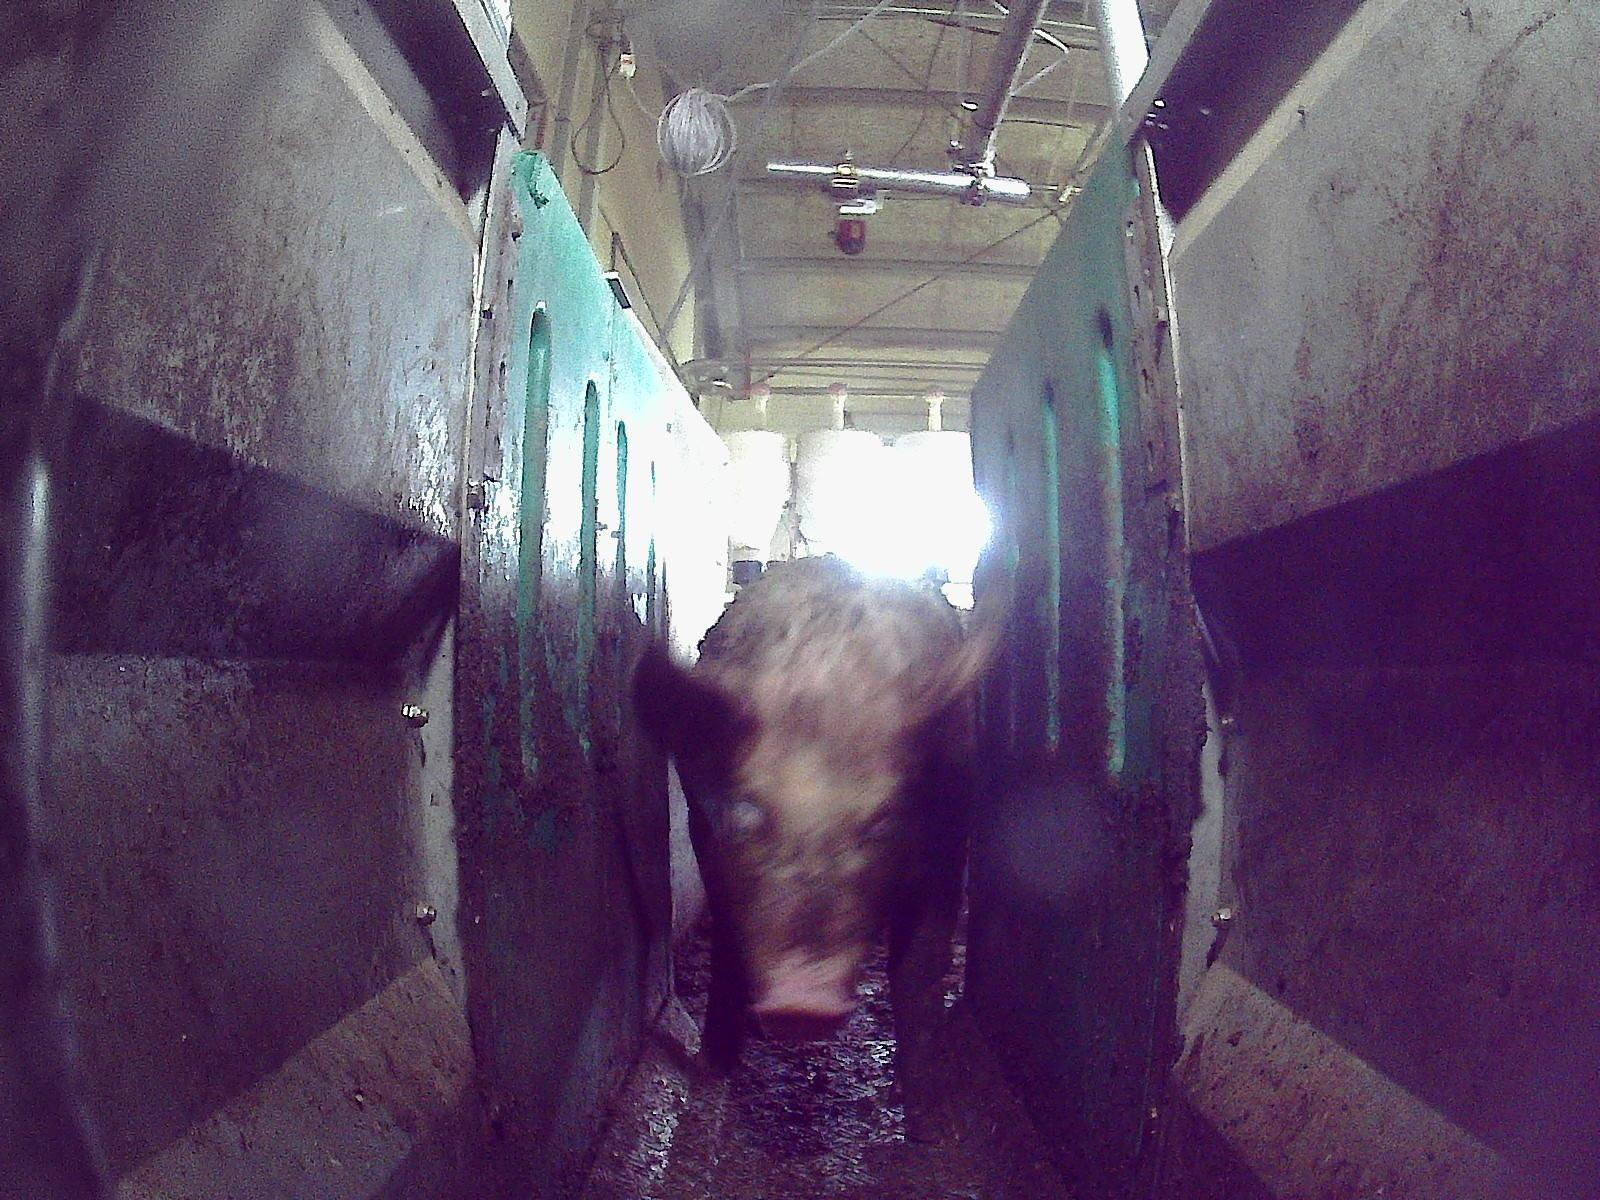Face: (697, 692, 906, 1040)
